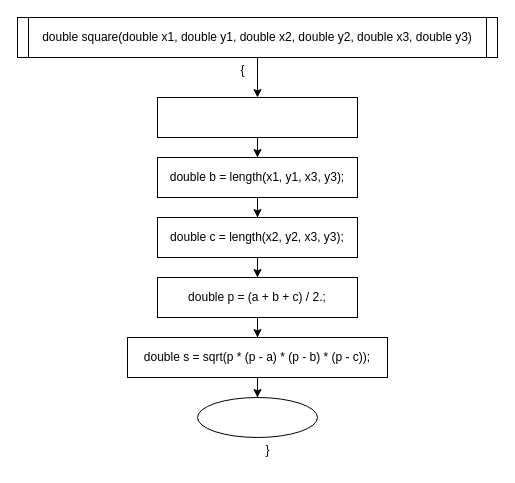
Image size: 515x483. Some labels were removed from this diagram. The shapes that lost their labels are listed below. From the top down, each one's centre as x and y in pixels, then its label:
point 257,117: double a = length(x1, y1, x2, y2);
point 257,417: return s;
